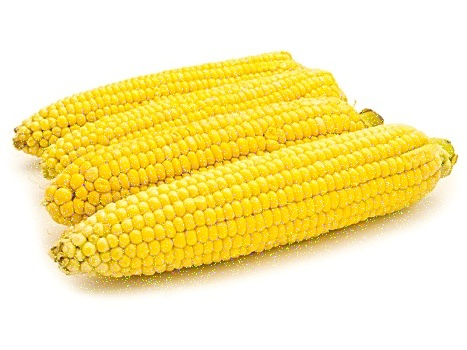corn: (57, 122, 445, 283), (40, 103, 370, 229), (36, 71, 332, 176)
